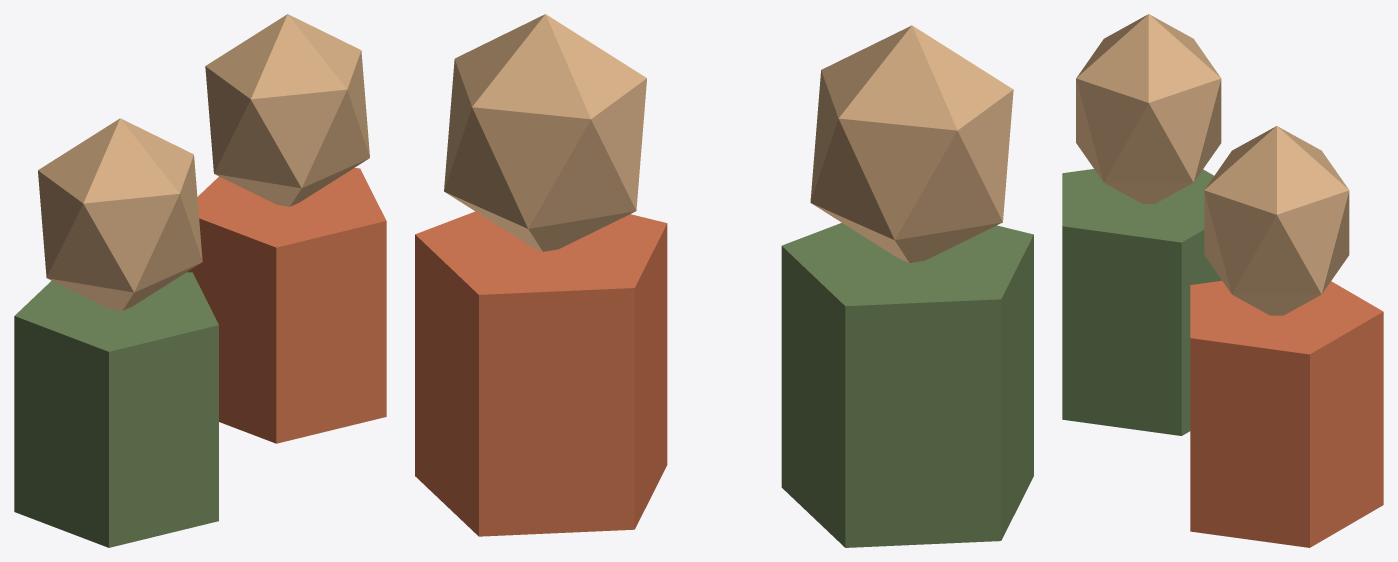
File: population.glb
The picture shows the model from 3 angles, left to right: view 1: azimuth 30°, elevation 25°; view 2: azimuth 150°, elevation 25°; view 3: azimuth 270°, elevation 25°; orthographic projection. The views are drawn at different scales.
Parts seen in each view (by area): view 1: population; view 2: population; view 3: population.
Part boxes in pixels (left/top/right/bottom): population: left=14, top=14, right=386, bottom=547; population: left=415, top=14, right=1033, bottom=547; population: left=1062, top=14, right=1383, bottom=547.
Bounding box in the file's own units: 1.1 × 0.98 × 0.7523.
